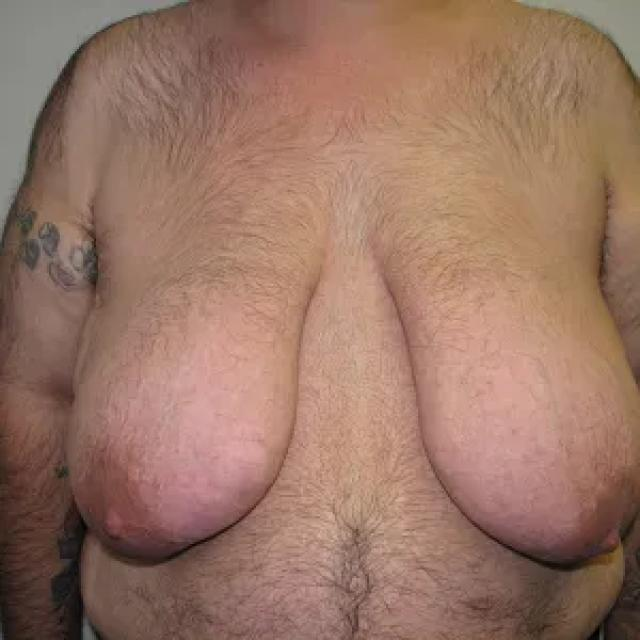Seno ileso: (370, 200, 640, 588), (64, 199, 331, 581)
